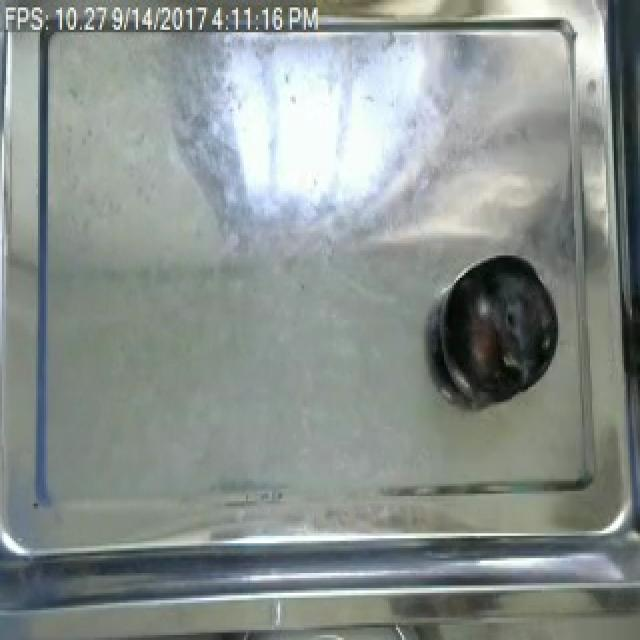Fruit: (438, 250, 560, 397)
